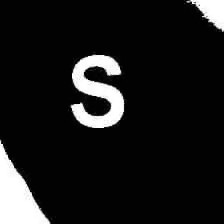LTR_S: (70, 46, 126, 133)
